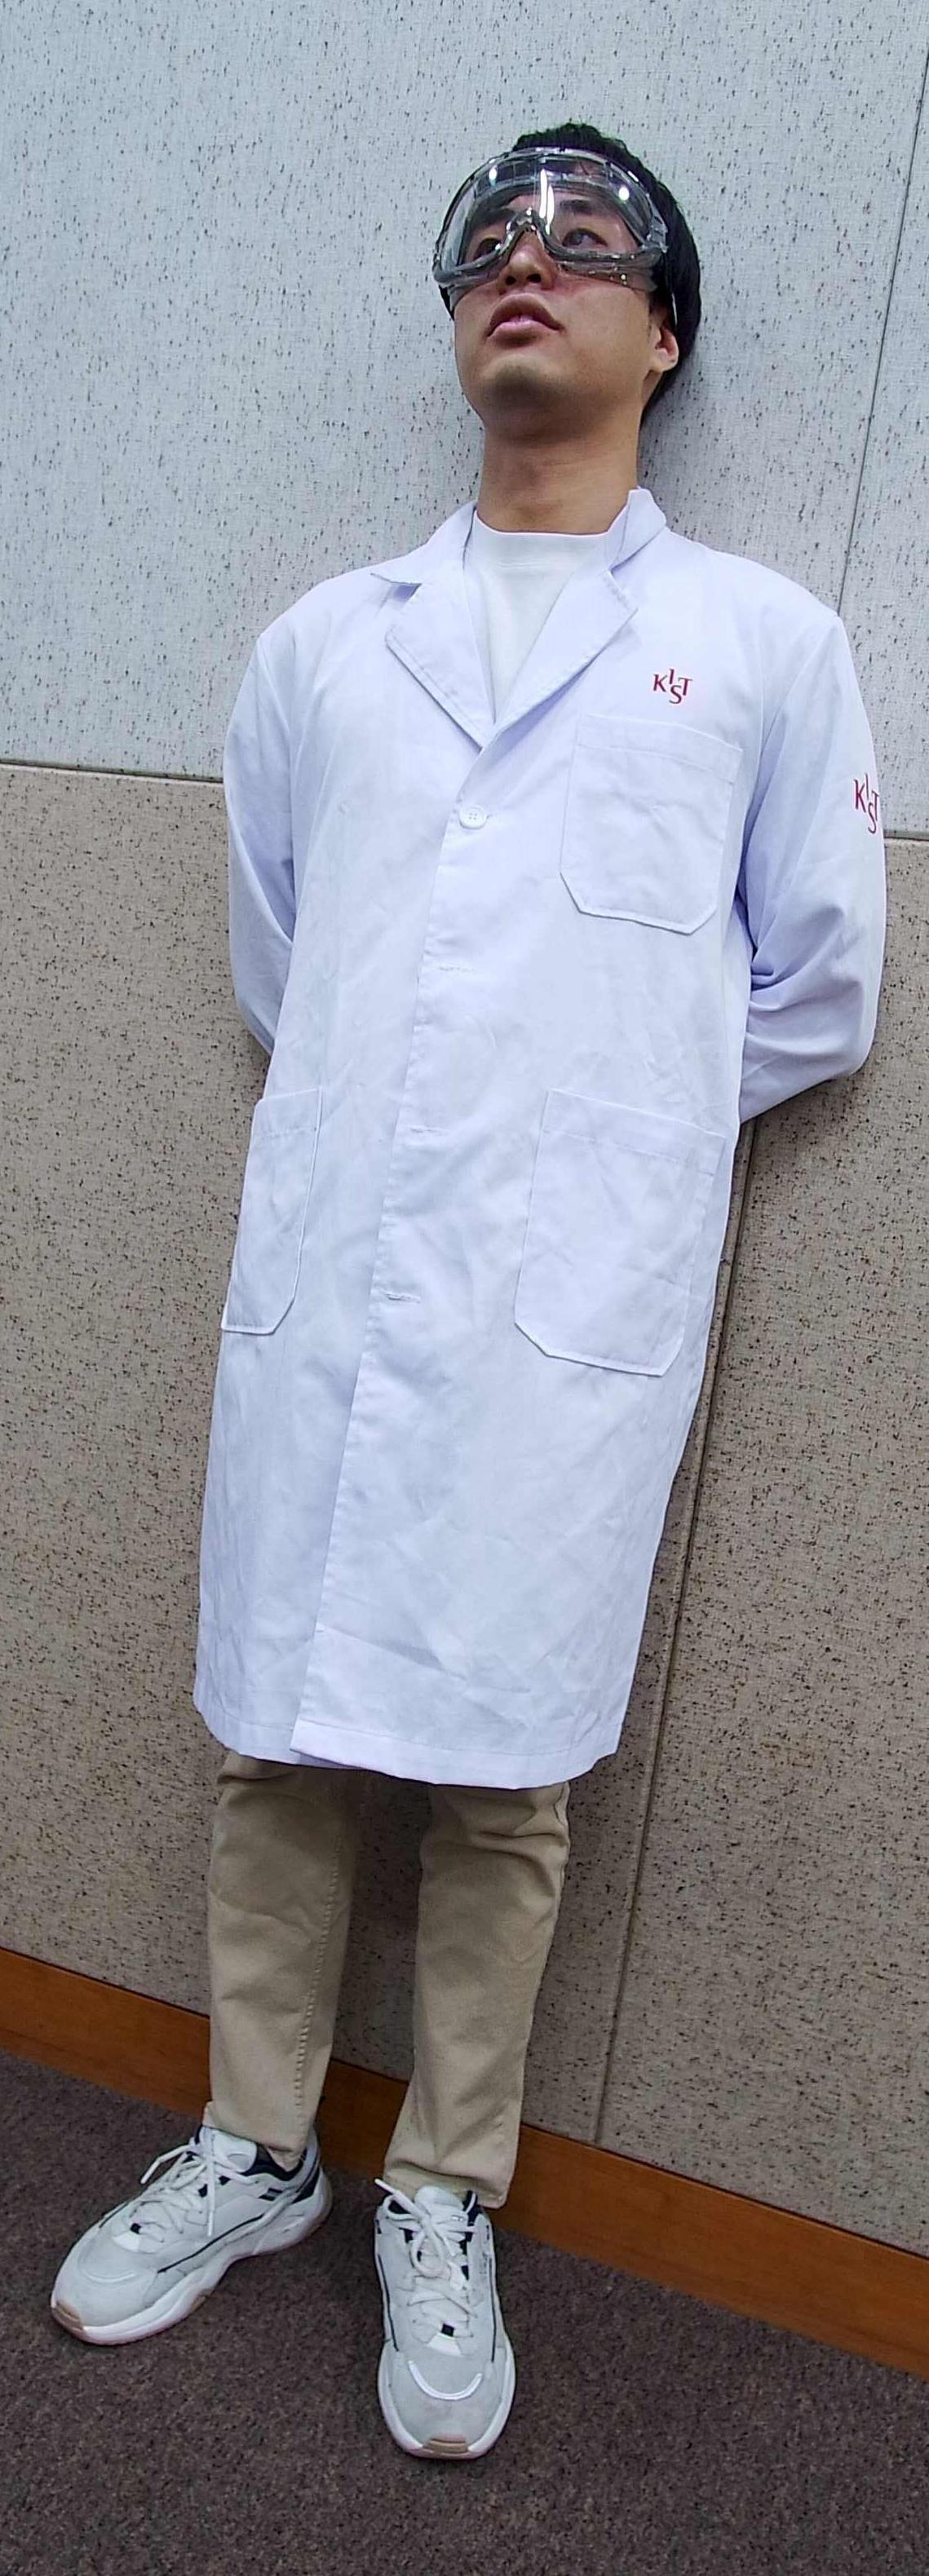lab_coat: (217, 580, 753, 1758)
